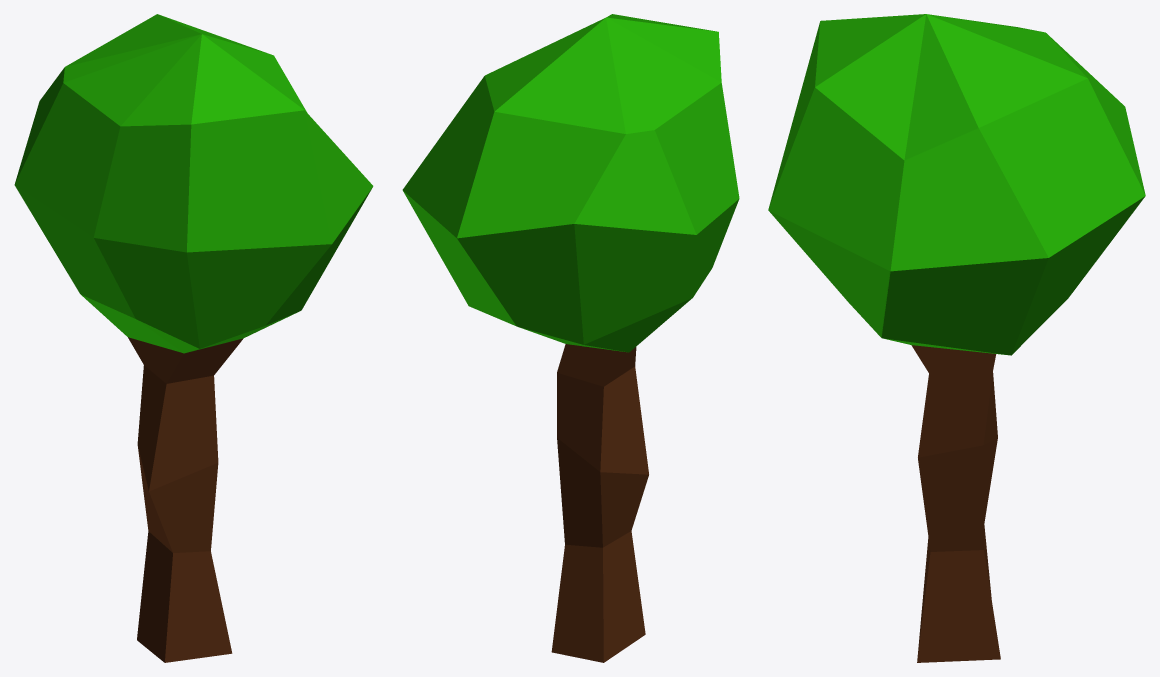
The model's file is Tree2.fbx.
3 renders of one model, left to right at view 1: azimuth 30°, elevation 25°; view 2: azimuth 150°, elevation 25°; view 3: azimuth 270°, elevation 25°, orthographic. The views are drawn at different scales.
Parts seen in each view (by area): view 1: Tree; view 2: Tree; view 3: Tree.
Boxes of the visible parts, x1,y1,x2,y2 form: Tree: (14, 14, 373, 662); Tree: (402, 14, 739, 662); Tree: (768, 14, 1145, 662).
Size of the model in its own units: 1058 by 2144 by 1153.
Materials: 1 (1 with a texture image).
